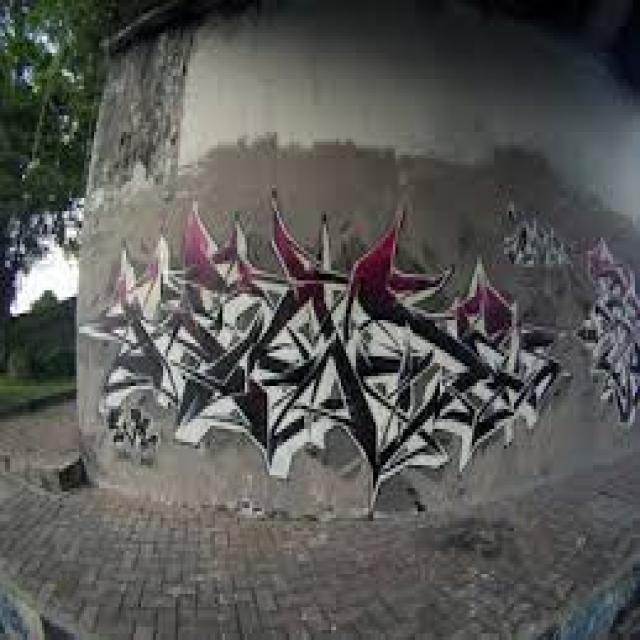-: (84, 188, 570, 516), (580, 235, 640, 425)
